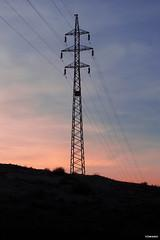power_tower: (63, 11, 98, 179)
